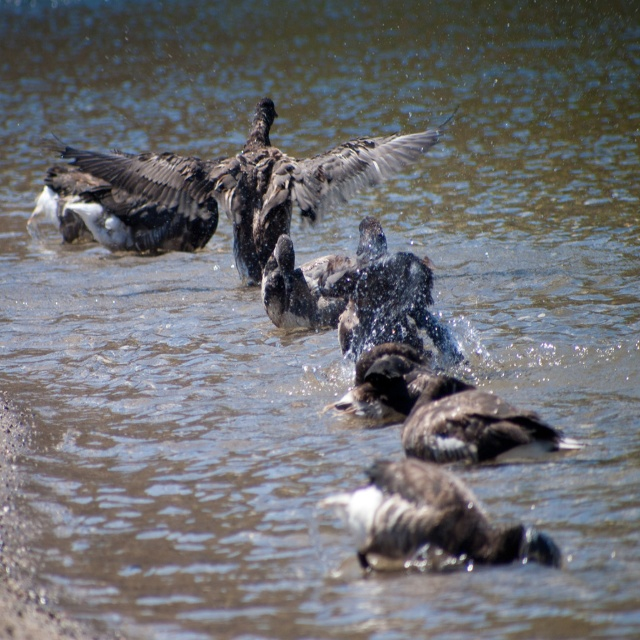Duck: (52, 94, 456, 289), (380, 377, 607, 492), (342, 462, 560, 576), (337, 323, 477, 442), (258, 229, 362, 343), (350, 211, 436, 288)
